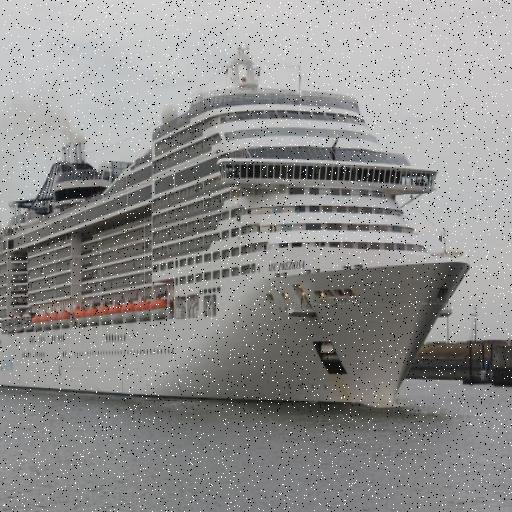cruises: (1, 61, 474, 421)
